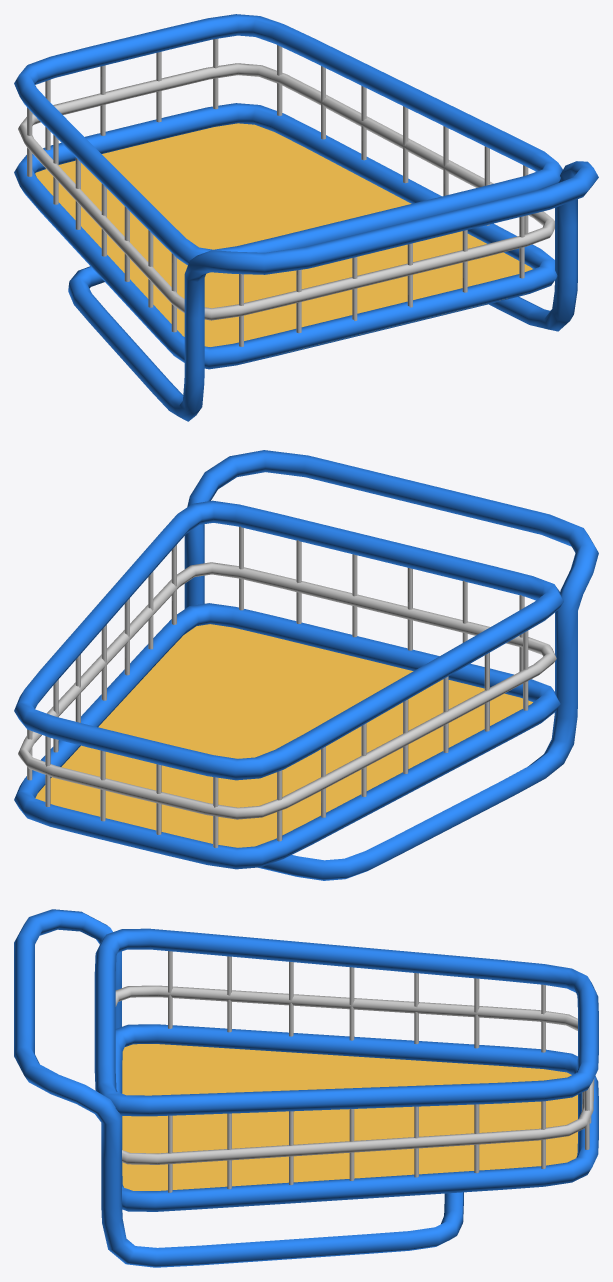
Rendered from Cart.glb.
3 views of the same model, one above another, from view 1: azimuth 30°, elevation 25°; view 2: azimuth 150°, elevation 25°; view 3: azimuth 270°, elevation 25° (orthographic). The views are drawn at different scales.
Parts seen in each view (by area): view 1: Cart_structure, Cart_base, Cart_bars; view 2: Cart_structure, Cart_base, Cart_bars; view 3: Cart_structure, Cart_base, Cart_bars.
Boxes of the visible parts, left/top/right/bottom form: Cart_structure: left=14, top=14, right=598, bottom=421; Cart_base: left=35, top=123, right=532, bottom=351; Cart_bars: left=18, top=38, right=554, bottom=346; Cart_structure: left=14, top=450, right=598, bottom=880; Cart_base: left=35, top=624, right=532, bottom=847; Cart_bars: left=18, top=526, right=556, bottom=847; Cart_structure: left=14, top=909, right=598, bottom=1267; Cart_base: left=122, top=1044, right=577, bottom=1190; Cart_bars: left=115, top=951, right=594, bottom=1192.
Bounding box in the file's own units: 1.4 × 0.6899 × 1.9.
Materials: 1 (1 with a texture image).
